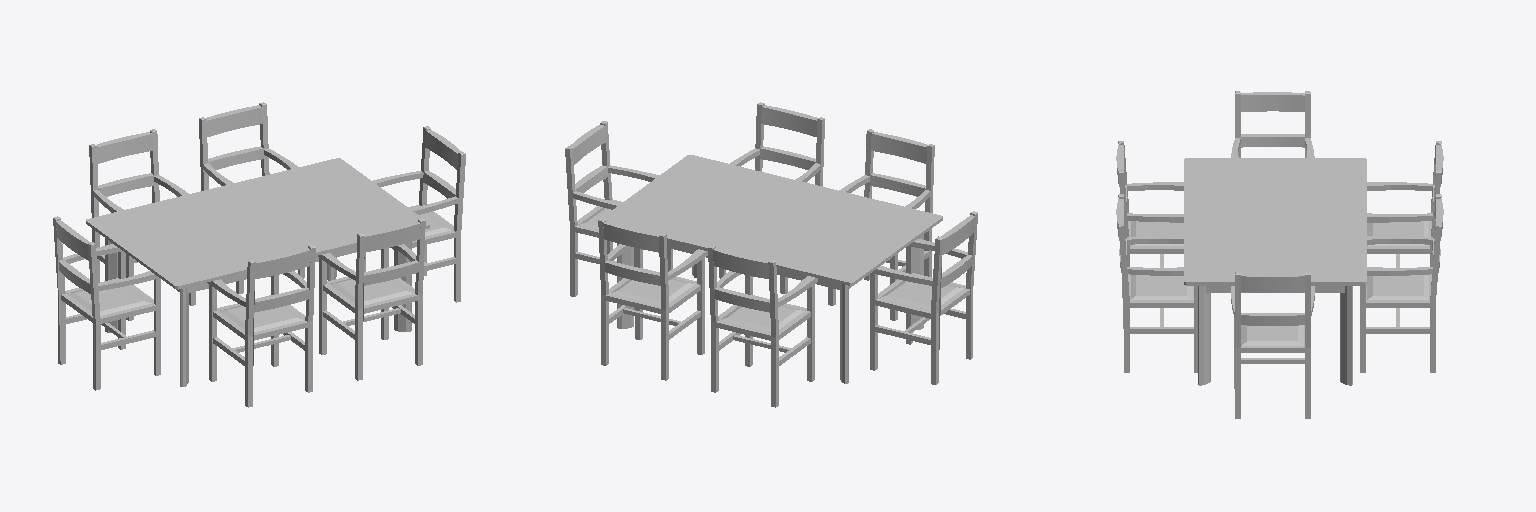
File: Table Chairs.obj
3 renders of one model, left to right at view 1: azimuth 30°, elevation 25°; view 2: azimuth 150°, elevation 25°; view 3: azimuth 270°, elevation 25°, orthographic.
Parts seen in each view (by area): view 1: Mesh2 Group2 Model, Mesh6 chair4 Model, Mesh5 chair3 Model, Mesh7 chair5 Model, Mesh8 chair6 Model, Mesh3 chair1 Model, Mesh4 chair2 Model, Mesh1 Group1 Model; view 2: Mesh2 Group2 Model, Mesh4 chair2 Model, Mesh3 chair1 Model, Mesh7 chair5 Model, Mesh8 chair6 Model, Mesh6 chair4 Model, Mesh5 chair3 Model, Mesh1 Group1 Model; view 3: Mesh2 Group2 Model, Mesh8 chair6 Model, Mesh4 chair2 Model, Mesh5 chair3 Model, Mesh3 chair1 Model, Mesh7 chair5 Model, Mesh1 Group1 Model, Mesh6 chair4 Model.
Boxes of the visible parts, x1,y1,x2,y2 form: Mesh2 Group2 Model: [86, 158, 429, 289]; Mesh6 chair4 Model: [207, 245, 315, 407]; Mesh5 chair3 Model: [318, 218, 425, 380]; Mesh7 chair5 Model: [53, 216, 160, 390]; Mesh8 chair6 Model: [364, 126, 465, 302]; Mesh3 chair1 Model: [89, 129, 195, 320]; Mesh4 chair2 Model: [199, 102, 304, 293]; Mesh1 Group1 Model: [105, 238, 411, 386]; Mesh2 Group2 Model: [602, 155, 942, 285]; Mesh4 chair2 Model: [598, 218, 707, 380]; Mesh3 chair1 Model: [708, 245, 817, 407]; Mesh7 chair5 Model: [870, 211, 977, 384]; Mesh8 chair6 Model: [565, 121, 672, 309]; Mesh6 chair4 Model: [828, 129, 934, 320]; Mesh5 chair3 Model: [719, 102, 824, 293]; Mesh1 Group1 Model: [617, 235, 923, 383]; Mesh2 Group2 Model: [1184, 158, 1366, 285]; Mesh8 chair6 Model: [1231, 272, 1314, 418]; Mesh4 chair2 Model: [1360, 194, 1443, 372]; Mesh5 chair3 Model: [1116, 194, 1197, 372]; Mesh3 chair1 Model: [1367, 141, 1443, 267]; Mesh7 chair5 Model: [1231, 91, 1314, 157]; Mesh1 Group1 Model: [1198, 286, 1352, 385]; Mesh6 chair4 Model: [1116, 141, 1183, 267].
Bounding box in the file's own units: 110 × 40.85 × 82.34.